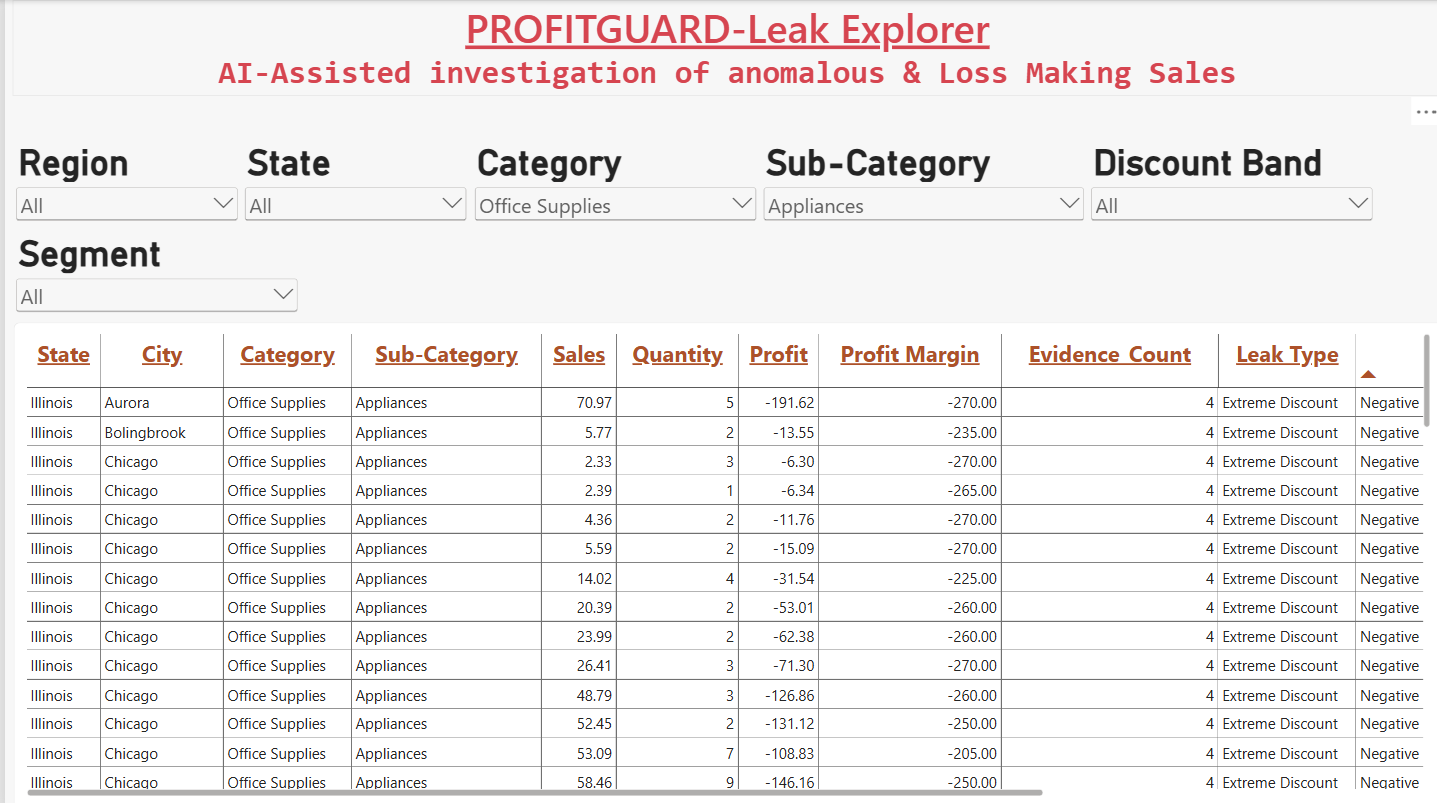

Layout of this report page (visuals, bound fields, positions):
{"tool":"powerbi","page":{"name":"Leak Explorer","canvas":[1920,1080],"ordinal":1},"visuals":[{"type":"textbox","box":[10,0,1910,128],"z":0},{"type":"slicer","fields":{"Values":["profitguard_full.Region"]},"box":[10,188,306,122],"z":1000},{"type":"slicer","fields":{"Values":["profitguard_full.State"]},"box":[316,188,306,122],"z":2000},{"type":"slicer","fields":{"Values":["profitguard_full.Category"]},"box":[622,188,386,120],"z":3000},{"type":"slicer","fields":{"Values":["profitguard_full.Sub-Category"]},"box":[1008,188,438,120],"z":4000},{"type":"slicer","fields":{"Values":["profitguard_full.Discount Band"]},"box":[1446,188,386,120],"z":5000},{"type":"slicer","fields":{"Values":["profitguard_full.Segment"]},"box":[10,310,386,120],"z":6000},{"type":"tableEx","fields":{"Values":["profitguard_full.State","profitguard_full.City","profitguard_full.Category","profitguard_full.Sub-Category","profitguard_full.Sales","profitguard_full.Quantity","profitguard_full.Profit","profitguard_full.Profit Margin","profitguard_full.Evidence_Count","profitguard_full.Leak Type","profitguard_full.Leak Reason"]},"box":[10.9,430.7,1909.2,649.7],"z":7000}]}

Visuals, with their boxes in screenshot pixels (x1, y1, x2, y2), scaled from the page's 1920x1080 canvas onto the 1437x803 screenshot:
textbox: <box>7,0,1436,95</box>
slicer - profitguard_full.Region: <box>7,140,237,230</box>
slicer - profitguard_full.State: <box>237,140,466,230</box>
slicer - profitguard_full.Category: <box>466,140,754,229</box>
slicer - profitguard_full.Sub-Category: <box>754,140,1082,229</box>
slicer - profitguard_full.Discount Band: <box>1082,140,1371,229</box>
slicer - profitguard_full.Segment: <box>7,230,296,320</box>
tableEx - profitguard_full.State x profitguard_full.City: <box>8,320,1436,802</box>
